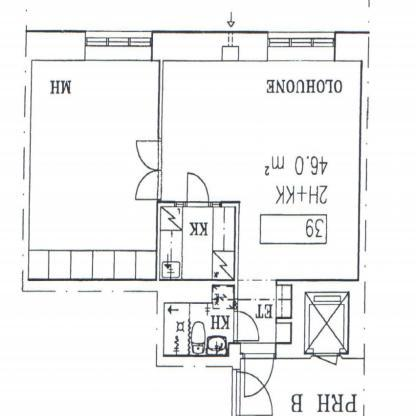bathroom: (159, 277, 238, 362)
door: (131, 134, 166, 209), (234, 370, 278, 416), (242, 350, 276, 398), (131, 165, 164, 203), (181, 170, 211, 210), (133, 135, 164, 171), (234, 308, 262, 344)
perimeter: (26, 31, 360, 278)
window: (82, 25, 156, 67), (263, 27, 340, 66)
